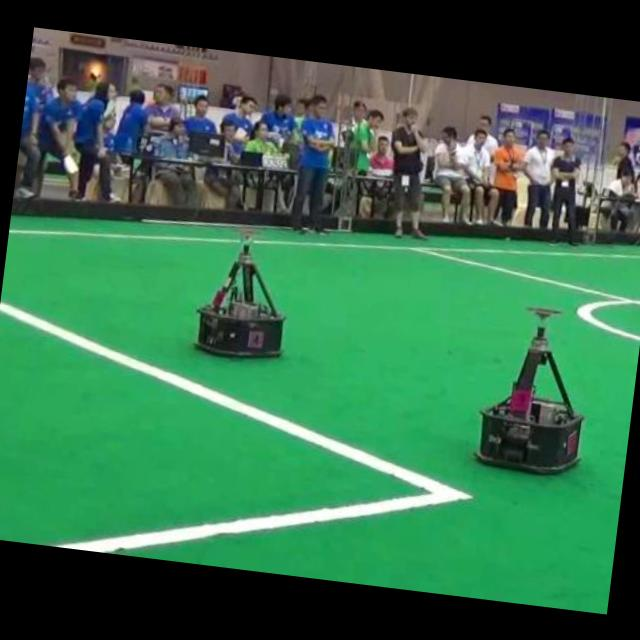robot: (477, 325, 580, 471), (197, 243, 283, 354)
